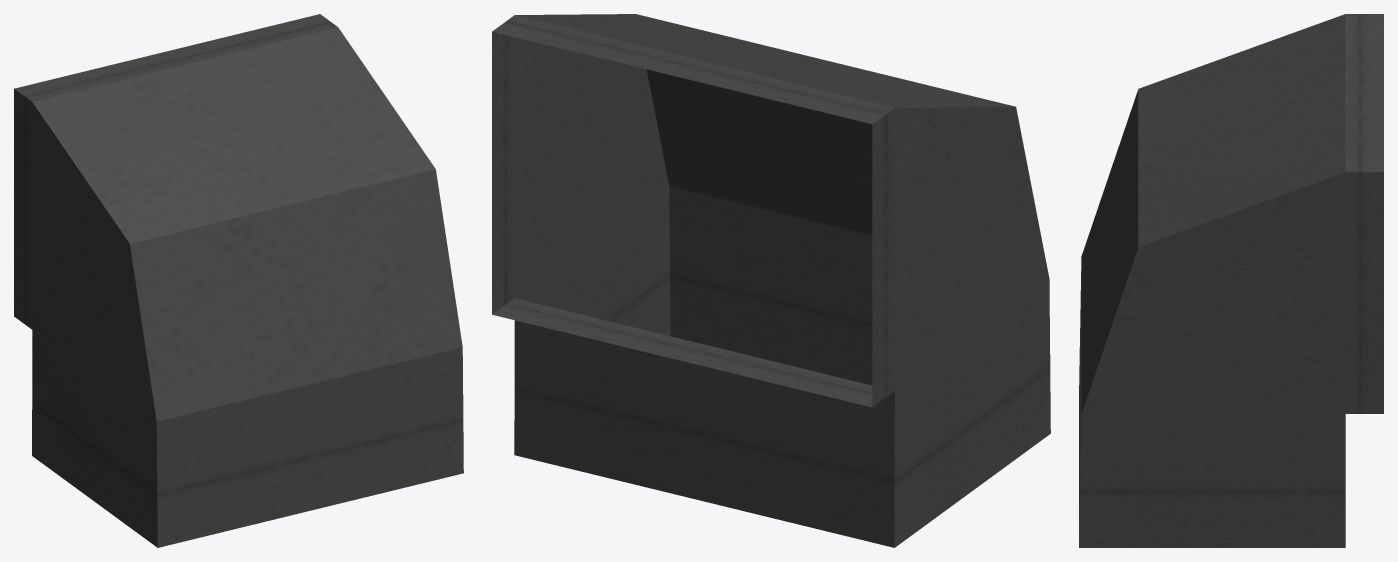
File: QuadPipe.fbx
3 renders of one model, left to right at view 1: azimuth 30°, elevation 25°; view 2: azimuth 150°, elevation 25°; view 3: azimuth 270°, elevation 25°, orthographic. The views are drawn at different scales.
Parts seen in each view (by area): view 1: QuadPipe; view 2: QuadPipe; view 3: QuadPipe.
Boxes of the visible parts, x1,y1,x2,y2 form: QuadPipe: [14, 14, 463, 547]; QuadPipe: [492, 14, 1050, 547]; QuadPipe: [1079, 14, 1383, 547].
Bounding box in the file's own units: 45.67 × 50.5 × 37.15.
